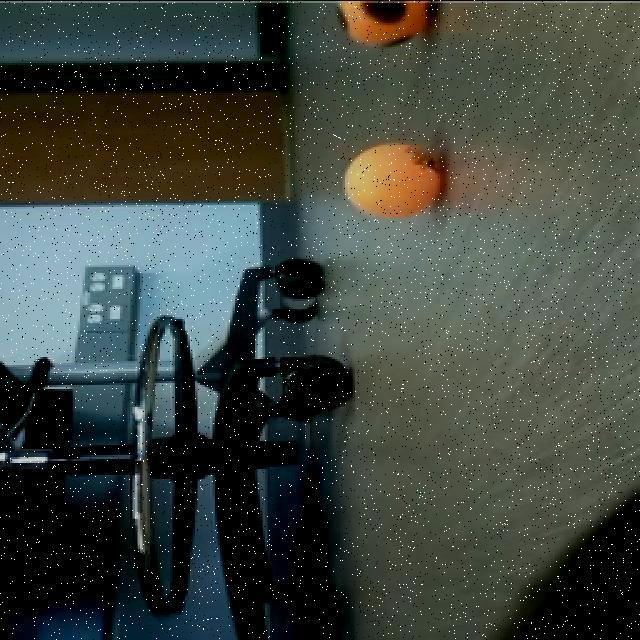ping-pong-ball: (341, 132, 448, 223), (332, 0, 443, 55)
